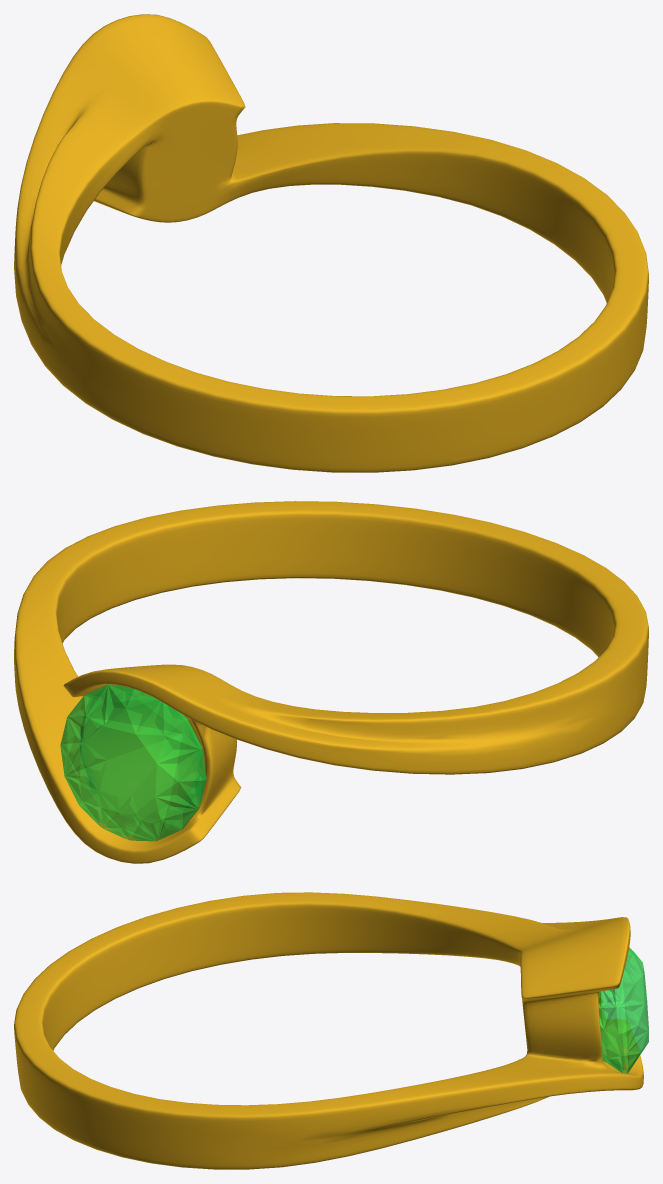
File: emerald_ring.glb
3 views of the same model, one above another, from view 1: azimuth 30°, elevation 25°; view 2: azimuth 150°, elevation 25°; view 3: azimuth 270°, elevation 25° (orthographic). The views are drawn at different scales.
Parts seen in each view (by area): view 1: jeizhi_jeizhi; view 2: jeizhi_jeizhi, zuanshi_jeizhi; view 3: jeizhi_jeizhi, zuanshi_jeizhi.
Part boxes in pixels (x1,y1,x2,y2): jeizhi_jeizhi: (14, 14, 648, 472); jeizhi_jeizhi: (14, 501, 648, 863); zuanshi_jeizhi: (60, 684, 206, 841); jeizhi_jeizhi: (14, 892, 643, 1169); zuanshi_jeizhi: (598, 947, 648, 1073).
Size of the model in its own units: 13.58 by 4.34 by 16.26.
